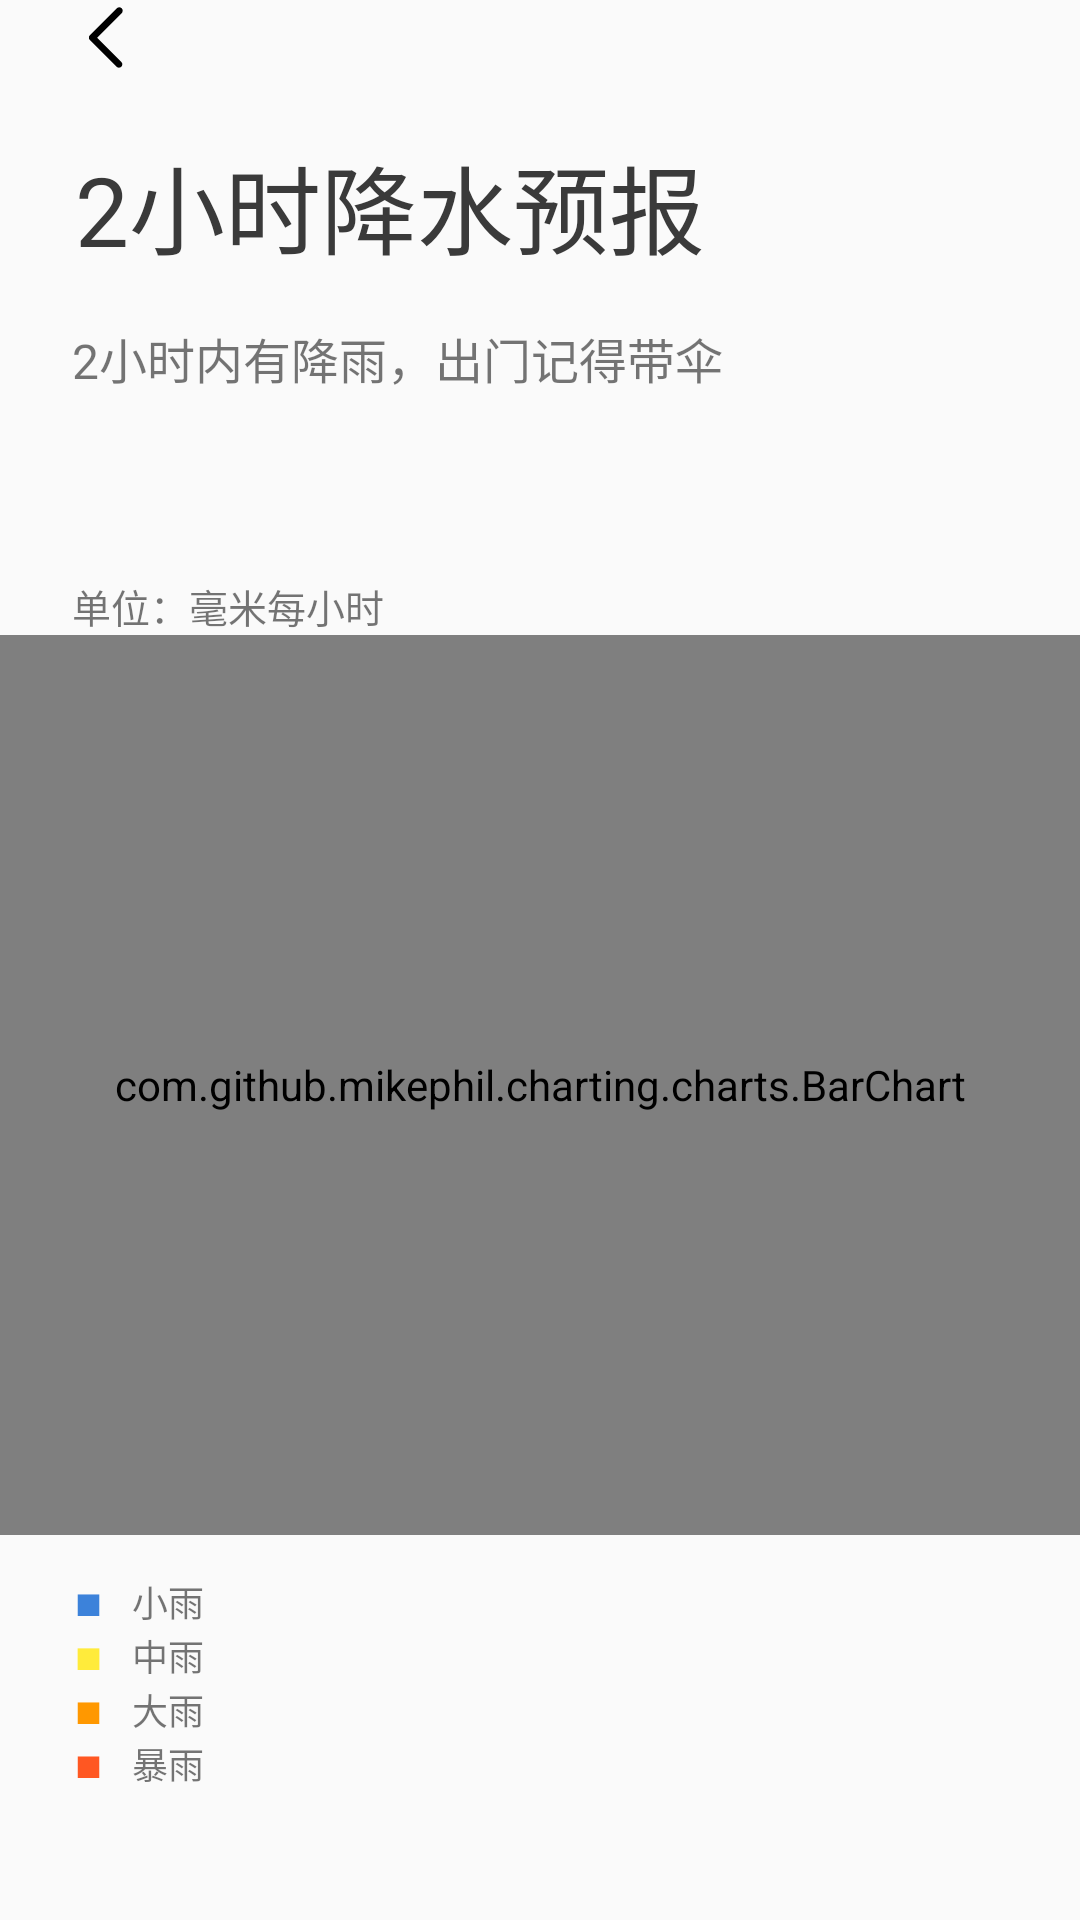

Icons on this 1080w x 1920h Android screen, each with the point to tap as (x=x, y=y):
iconlocationback: (x=106, y=37)
